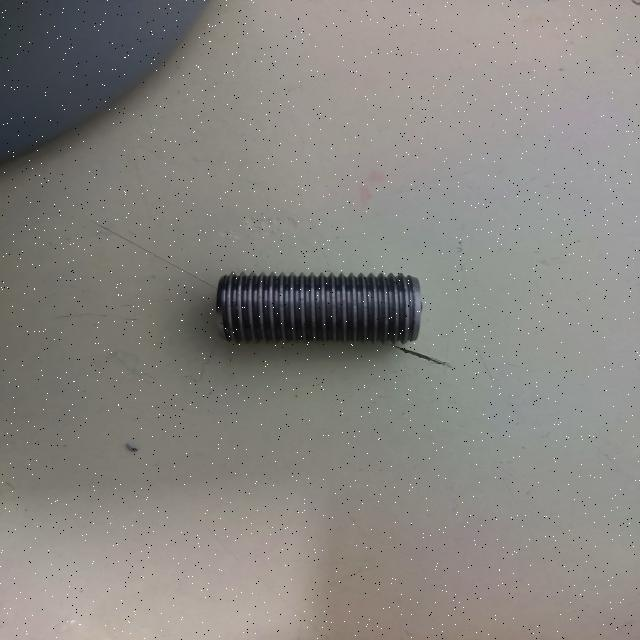Normal: (214, 269, 423, 347)
